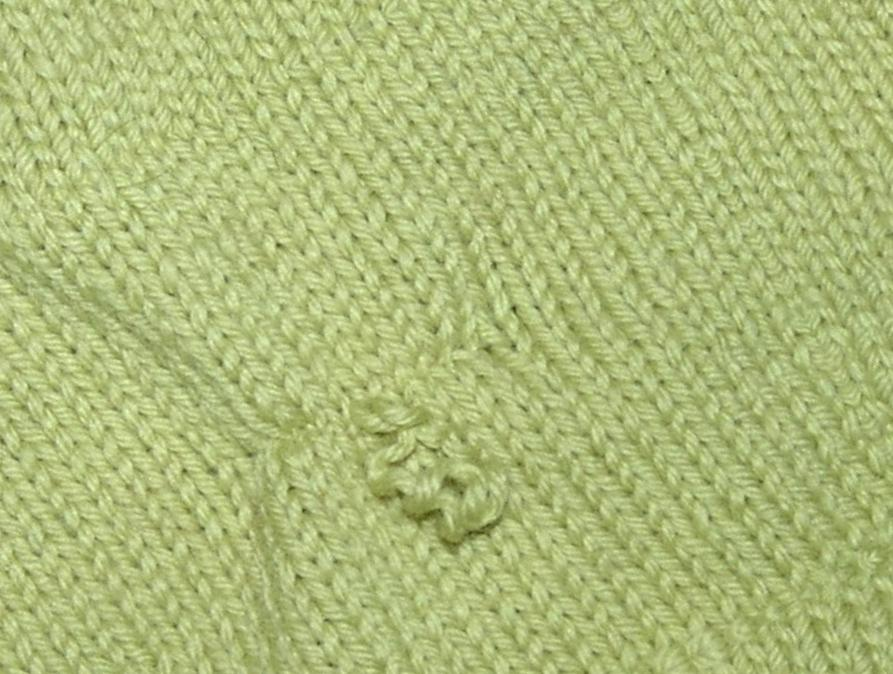knot: (350, 393, 514, 553)
